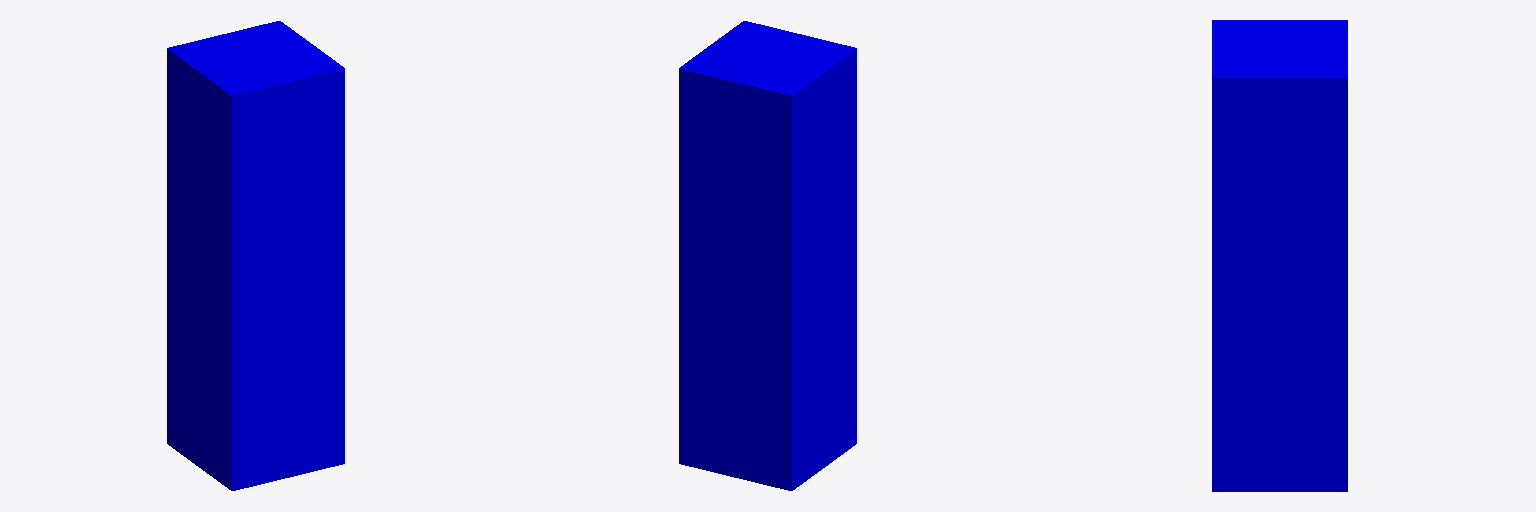
The robot description file, URDF, robot "cube.urdf":
<?xml version="0.0" ?>
<robot name="cube.urdf">
  <link name="baseLink">
    <contact>
      <lateral_friction value=".7"/>
      <inertia_scaling value="3.0"/>
    </contact>
    <inertial>
      <origin rpy="0 0 0" xyz="0 0 0"/>
       <mass value=".1"/>
       <inertia ixx="1" ixy="0" ixz="0" iyy="1" iyz="0" izz="1"/>
    </inertial>
    <visual>
      <origin rpy="0 0 0" xyz="0 0 0"/>
      <geometry>
        <box size=".03 .03 .1" />
      </geometry>
       <material name="blue">
        <color rgba="0 0 1 1"/>
      </material>
    </visual>
    <collision>
      <origin rpy="0 0 0" xyz="0 0 0"/>
      <geometry>
	 	<box size=".03 .03 .1"/>
      </geometry>
    </collision>
  </link>
</robot>

--- What the picture shows (computed from the rendered views, not written in the file) ---
3 views of the same robot in one strip: view 1: azimuth 30°, elevation 25°; view 2: azimuth 150°, elevation 25°; view 3: azimuth 270°, elevation 25° (orthographic).
Robot: cube.urdf — 1 links, 0 joints (none); root link baseLink; default pose: all joints at 0.
Links seen in each view (by area): view 1: baseLink; view 2: baseLink; view 3: baseLink.
Link boxes in pixels (left/top/right/bottom): baseLink: left=167, top=21, right=344, bottom=490; baseLink: left=679, top=21, right=856, bottom=490; baseLink: left=1212, top=20, right=1347, bottom=491.
Bounding box of the posed robot: 0.03 × 0.03 × 0.1 m (x, y, z).
Geometry: primitives only (box / cylinder / sphere), no mesh files.